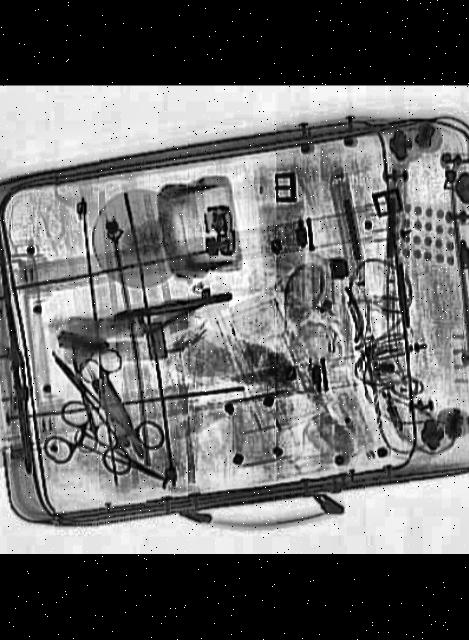Scissors: (22, 337, 177, 482), (32, 398, 185, 507), (62, 382, 122, 459), (76, 348, 136, 414)
